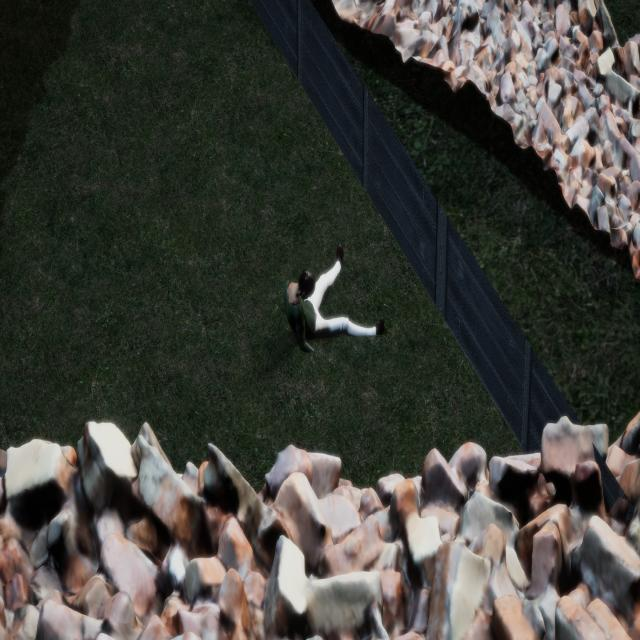Human: (281, 234, 387, 370)
